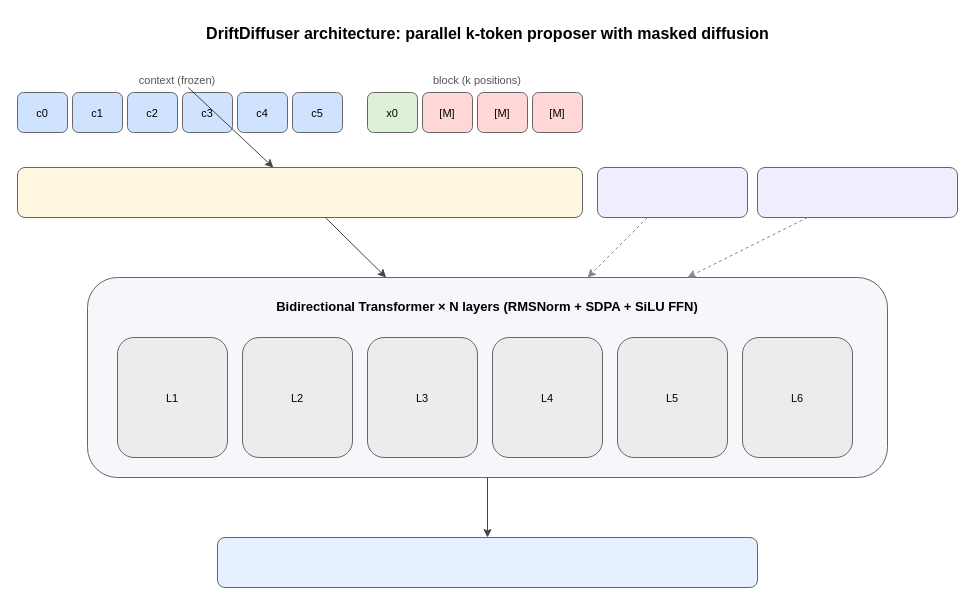
Image size: 979x605. Some labels were removed from this diagram. The shapes that lost their labels are listed below. From the top down, each one's box as (x1, y1, x2, y2) in pixels, then its label:
(16, 166, 582, 218): Token Embedding | MASK Embedding (sentinel for [M])
(596, 166, 748, 218): + Positional Emb
(756, 166, 958, 218): + Time Emb (t_i) — masked positions only
(216, 536, 758, 588): Tied Output Head → logits over target vocab (V = 152,064)
